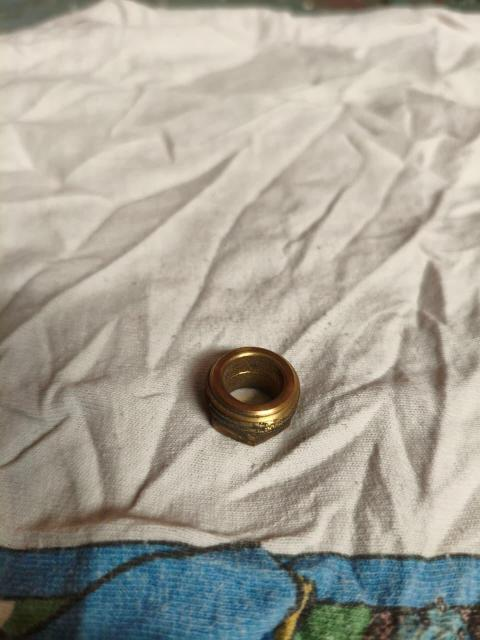Metal: (207, 345, 302, 437)
